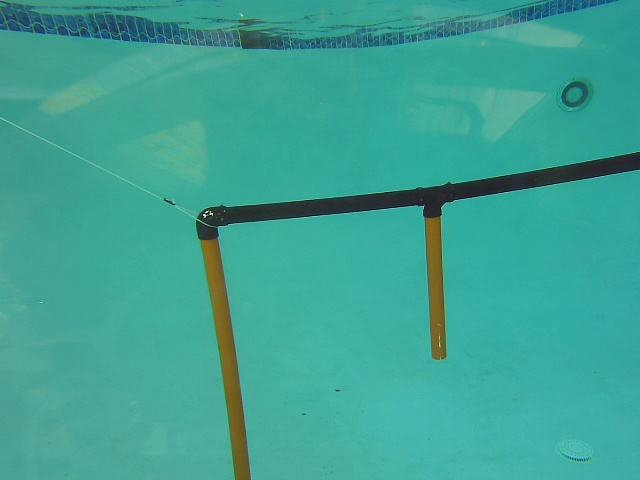Gate: (193, 233, 257, 480), (421, 211, 448, 365)
